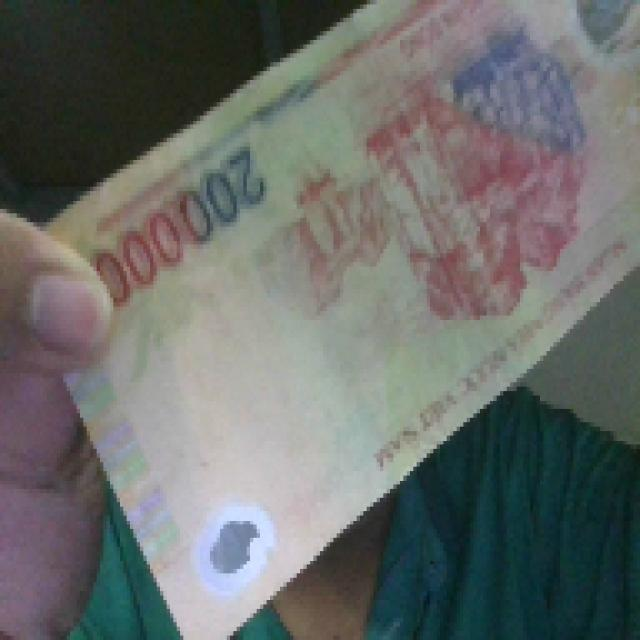200 000 VND: (30, 0, 637, 636)
